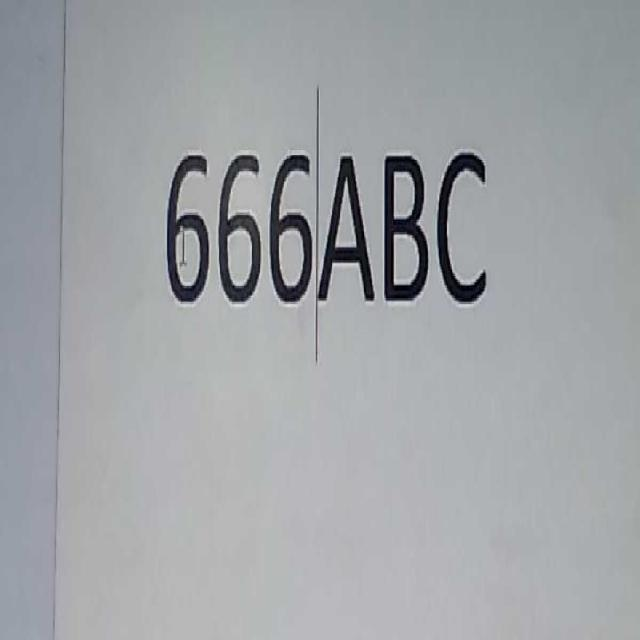license_plate: (161, 124, 491, 334)
